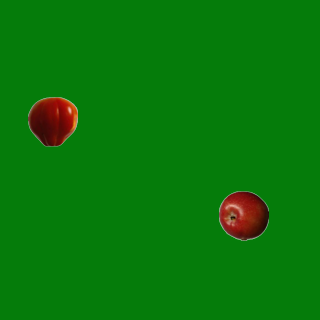Apple Braeburn: (218, 190, 268, 240)
Tomato 1: (27, 96, 77, 146)
